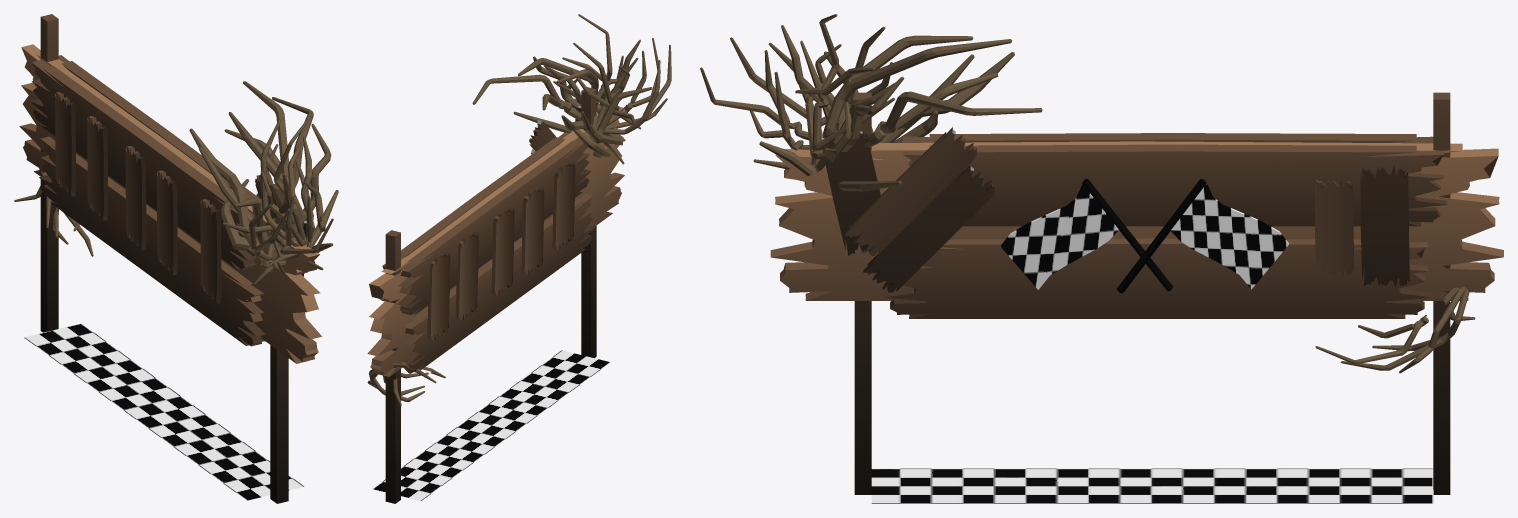
File: LINHA DE CHEGADA .fbx
3 views of the same model, side by side, from view 1: azimuth 30°, elevation 25°; view 2: azimuth 150°, elevation 25°; view 3: azimuth 270°, elevation 25° (orthographic). The views are drawn at different scales.
Parts seen in each view (by area): view 1: arco, Plane, m8, m9, base, estacas, m14, m12, m1, m13, m11, m10; view 2: arco, Plane, m9, m8, base, estacas, m1, m12, m13, m14, m11, m10 (+1 smaller); view 3: m2, m1, base, arco, Plane, estacas, m3, b1, m4, b2, m5, m9 (+4 smaller).
Part boxes in pixels (x1=…): arco: x1=14, y1=81, x2=338, y2=284; Plane: x1=24, y1=323, x2=303, y2=500; m8: x1=39, y1=136, x2=265, y2=346; m9: x1=30, y1=59, x2=256, y2=269; base: x1=19, y1=44, x2=321, y2=363; estacas: x1=40, y1=14, x2=288, y2=503; m14: x1=200, y1=199, x2=221, y2=303; m12: x1=125, y1=146, x2=146, y2=250; m1: x1=58, y1=55, x2=270, y2=212; m13: x1=157, y1=170, x2=177, y2=275; m11: x1=87, y1=116, x2=107, y2=220; m10: x1=55, y1=92, x2=75, y2=196; arco: x1=367, y1=14, x2=671, y2=405; Plane: x1=372, y1=350, x2=610, y2=501; m9: x1=397, y1=138, x2=591, y2=314; m8: x1=402, y1=193, x2=594, y2=372; base: x1=367, y1=106, x2=624, y2=376; estacas: x1=385, y1=87, x2=596, y2=503; m1: x1=381, y1=132, x2=569, y2=301; m12: x1=491, y1=207, x2=514, y2=295; m13: x1=521, y1=186, x2=544, y2=275; m14: x1=552, y1=161, x2=575, y2=249; m11: x1=455, y1=231, x2=478, y2=320; m10: x1=427, y1=252, x2=450, y2=340; m2: x1=883, y1=238, x2=1431, y2=318; m1: x1=902, y1=144, x2=1447, y2=226; base: x1=770, y1=141, x2=1503, y2=300; arco: x1=700, y1=14, x2=1475, y2=373; Plane: x1=871, y1=468, x2=1433, y2=503; estacas: x1=854, y1=92, x2=1450, y2=494; m3: x1=845, y1=127, x2=977, y2=255; b1: x1=1170, y1=183, x2=1288, y2=289; m4: x1=863, y1=164, x2=995, y2=292; b2: x1=1000, y1=184, x2=1118, y2=289; m5: x1=1360, y1=166, x2=1409, y2=287; m9: x1=902, y1=133, x2=1433, y2=143.
Bounding box in the file's own units: 472 × 1294 × 1919.
20 materials, 14 textured.
